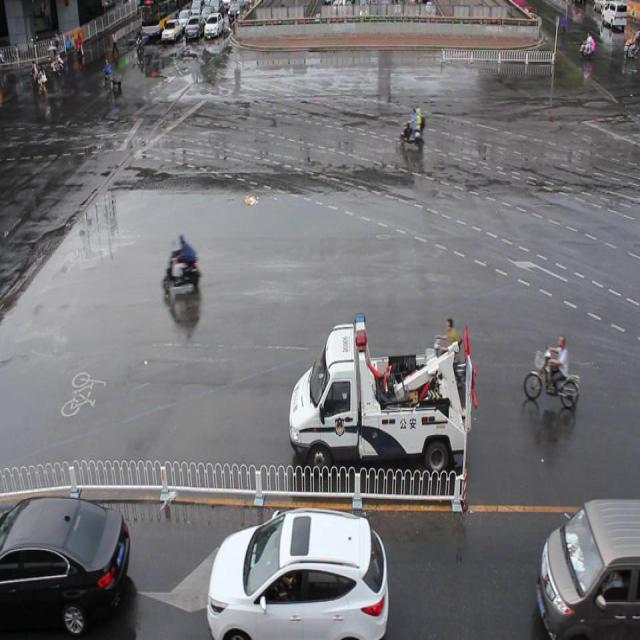bus: (289, 308, 475, 475)
car: (208, 507, 387, 640), (0, 493, 130, 640)
truck: (536, 498, 640, 640)
